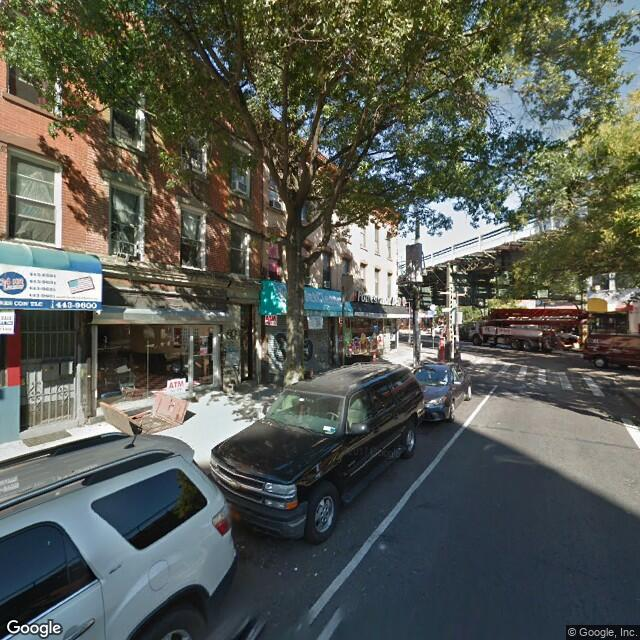litter: (96, 397, 197, 432)
